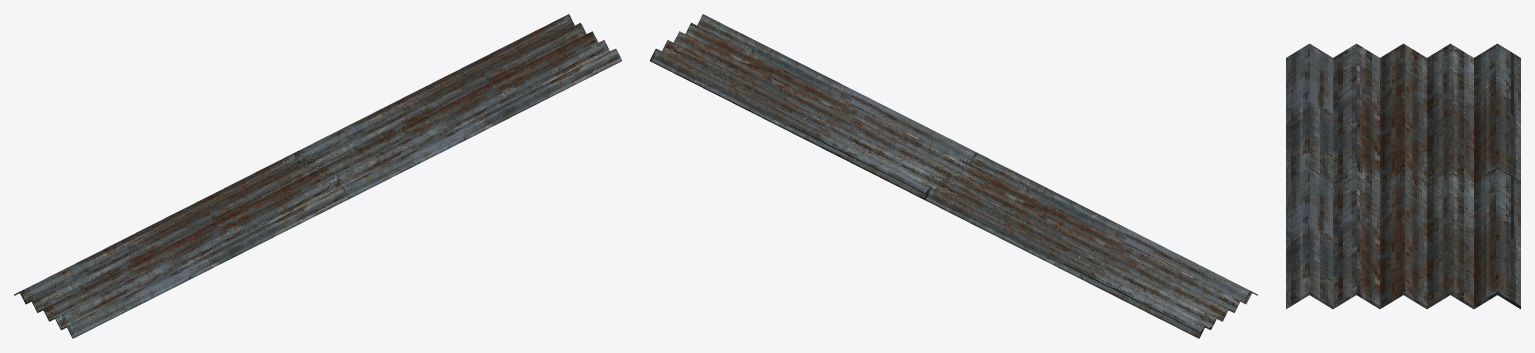
File: roof_hr_3_side_2_angle_edge_2.glb
The picture shows the model from 3 angles, left to right: view 1: azimuth 30°, elevation 25°; view 2: azimuth 150°, elevation 25°; view 3: azimuth 270°, elevation 25°; orthographic projection. The views are drawn at different scales.
Parts seen in each view (by area): view 1: roof_hr_3_side_2_angle_edge_2; view 2: roof_hr_3_side_2_angle_edge_2; view 3: roof_hr_3_side_2_angle_edge_2.
Boxes of the visible parts, box(x1,y1,x2,y2) form: roof_hr_3_side_2_angle_edge_2: box(14, 14, 621, 338); roof_hr_3_side_2_angle_edge_2: box(650, 14, 1257, 338); roof_hr_3_side_2_angle_edge_2: box(1286, 43, 1520, 309).
Size of the model in its own units: 4 by 1.06 by 0.7407.
Materials: 1 (1 with a texture image).
